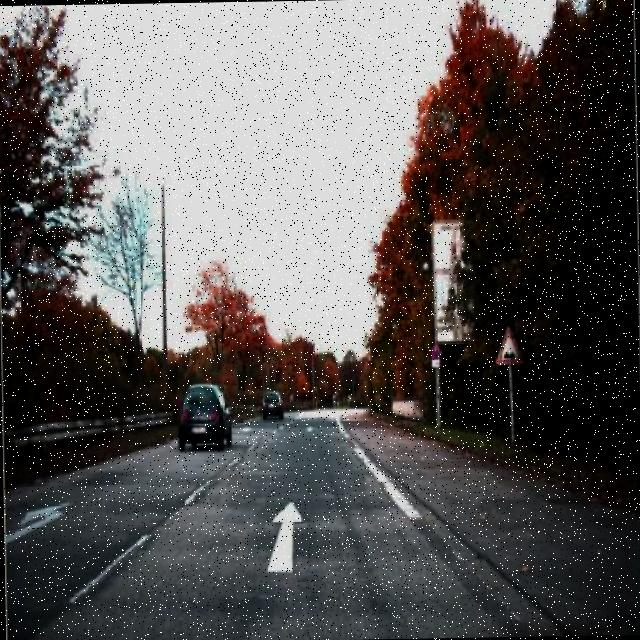Zakaz zatrzymywania sie: (429, 342, 443, 364)
